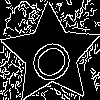O: (25, 29, 84, 89)
